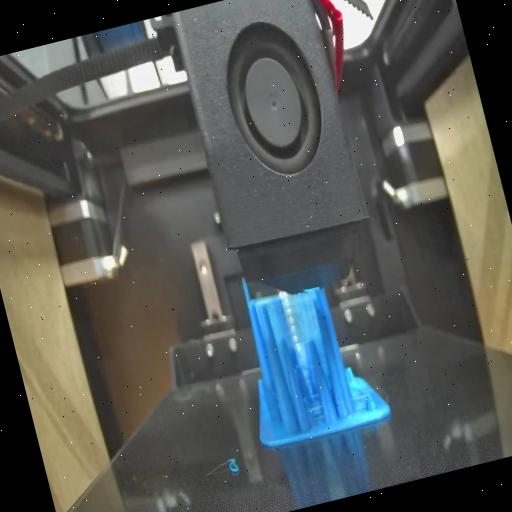stringing: (281, 290, 330, 372), (306, 397, 330, 431)
